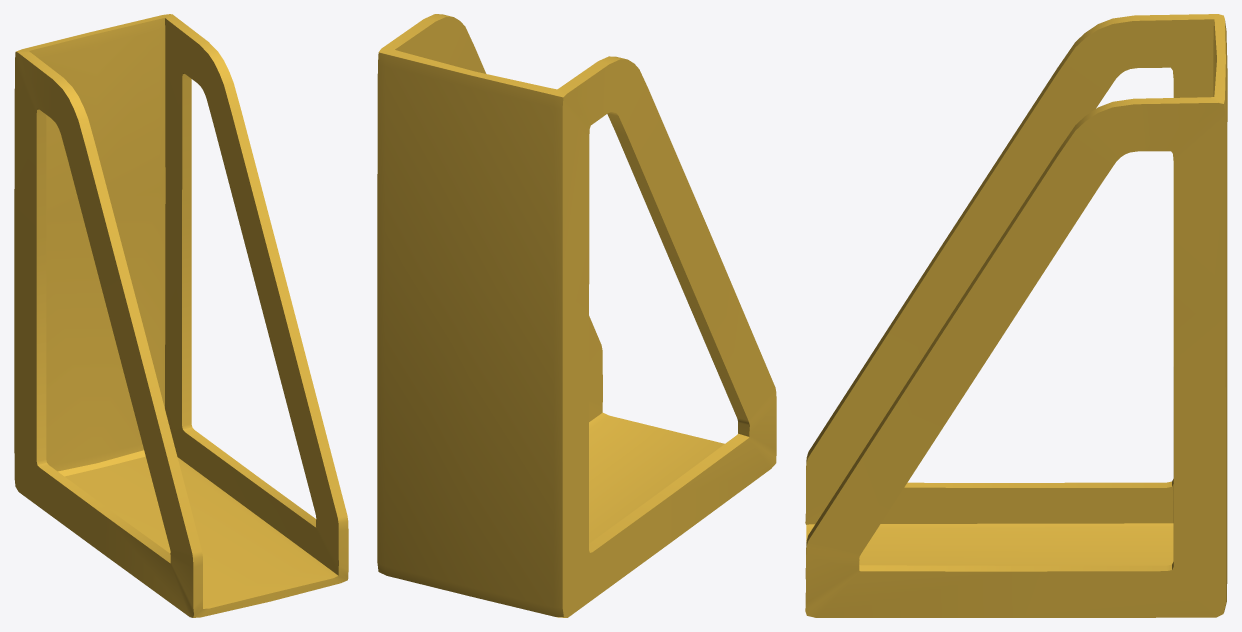
File: file_yellow.fbx
3 renders of one model, left to right at view 1: azimuth 30°, elevation 25°; view 2: azimuth 150°, elevation 25°; view 3: azimuth 270°, elevation 25°, orthographic. The views are drawn at different scales.
Visible parts, largest first — view 1: folder stand; view 2: folder stand; view 3: folder stand.
Boxes of the visible parts, x1,y1,x2,y2 form: folder stand: [14, 14, 348, 617]; folder stand: [377, 14, 776, 617]; folder stand: [805, 14, 1227, 617].
Bounding box in the file's own units: 1369 × 3706 × 2741.
